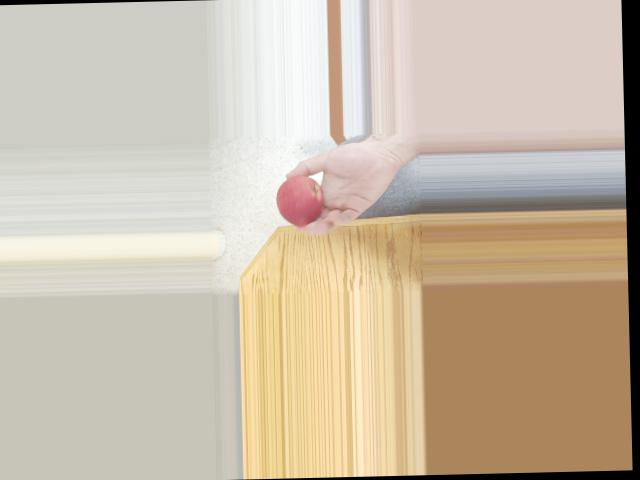apple: (275, 169, 331, 227)
